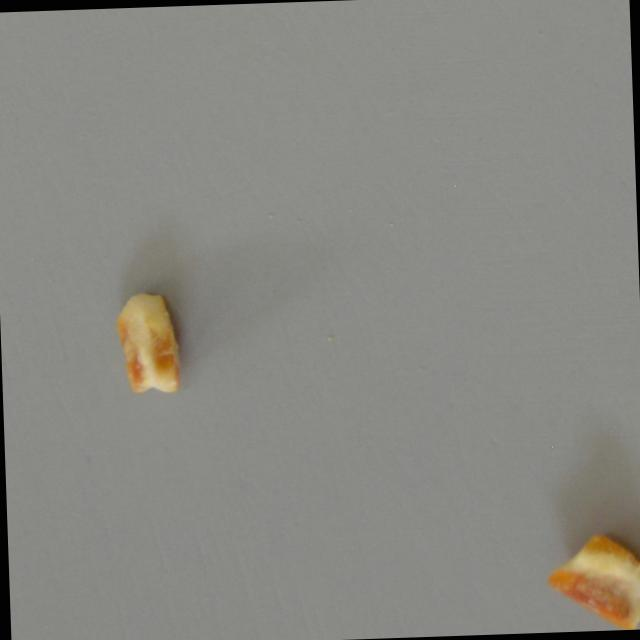dañado: (542, 527, 640, 632), (110, 285, 190, 399)
